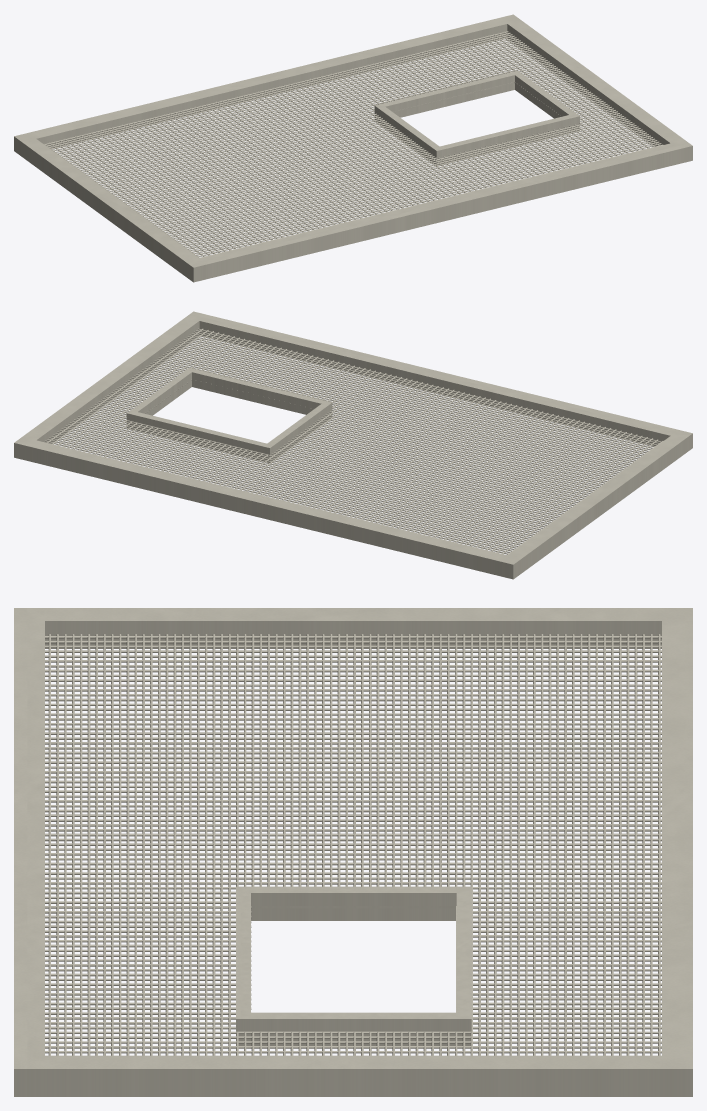
The model's file is Grid_Hole.glb.
3 renders of one model, top to bottom at view 1: azimuth 30°, elevation 25°; view 2: azimuth 150°, elevation 25°; view 3: azimuth 270°, elevation 25°, orthographic. The views are drawn at different scales.
Visible parts, largest first — view 1: Body1, Body108, Body8, Body7, Body65, Body11, Body18, Body2, Body62, Body63, Body76, Body14 (+66 smaller); view 2: Body1, Body108, Body13, Body14, Body23, Body11, Body68, Body69, Body76, Body77, Body78, Body15 (+65 smaller); view 3: Body1, Body108, Body11, Body70, Body59, Body75, Body16, Body22, Body6, Body65, Body5, Body64 (+65 smaller).
Part boxes in pixels (x1=…): Body1: x1=14, y1=14, x2=692, y2=282; Body108: x1=374, y1=70, x2=579, y2=165; Body8: x1=56, y1=40, x2=520, y2=154; Body7: x1=55, y1=38, x2=518, y2=152; Body65: x1=175, y1=126, x2=638, y2=240; Body11: x1=63, y1=44, x2=526, y2=158; Body18: x1=77, y1=55, x2=541, y2=169; Body2: x1=44, y1=31, x2=508, y2=145; Body62: x1=168, y1=122, x2=632, y2=235; Body63: x1=170, y1=123, x2=634, y2=237; Body76: x1=197, y1=143, x2=661, y2=256; Body14: x1=69, y1=49, x2=533, y2=163; Body1: x1=14, y1=311, x2=692, y2=579; Body108: x1=126, y1=367, x2=332, y2=462; Body13: x1=59, y1=430, x2=523, y2=543; Body14: x1=61, y1=428, x2=525, y2=542; Body23: x1=80, y1=415, x2=544, y2=528; Body11: x1=55, y1=433, x2=519, y2=546; Body68: x1=173, y1=346, x2=636, y2=460; Body69: x1=175, y1=345, x2=639, y2=459; Body76: x1=189, y1=334, x2=653, y2=448; Body77: x1=191, y1=333, x2=655, y2=446; Body78: x1=193, y1=331, x2=657, y2=445; Body15: x1=63, y1=427, x2=526, y2=540; Body1: x1=14, y1=608, x2=692, y2=1096; Body108: x1=236, y1=886, x2=471, y2=1045; Body11: x1=587, y1=634, x2=590, y2=1055; Body70: x1=126, y1=634, x2=129, y2=1055; Body59: x1=212, y1=634, x2=215, y2=1055; Body75: x1=87, y1=634, x2=90, y2=1055; Body16: x1=548, y1=634, x2=551, y2=1055; Body22: x1=501, y1=634, x2=504, y2=1055; Body6: x1=626, y1=634, x2=629, y2=1055; Body65: x1=165, y1=634, x2=168, y2=1055; Body5: x1=634, y1=634, x2=637, y2=1055; Body64: x1=173, y1=634, x2=176, y2=1055.
Bounding box in the file's own units: 1.06 × 0.03 × 0.66.
Materials: 1 (1 with a texture image).
